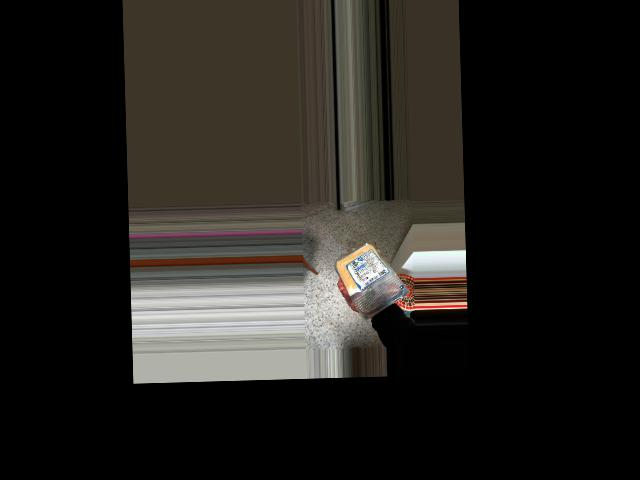cheese: (339, 239, 403, 312)
